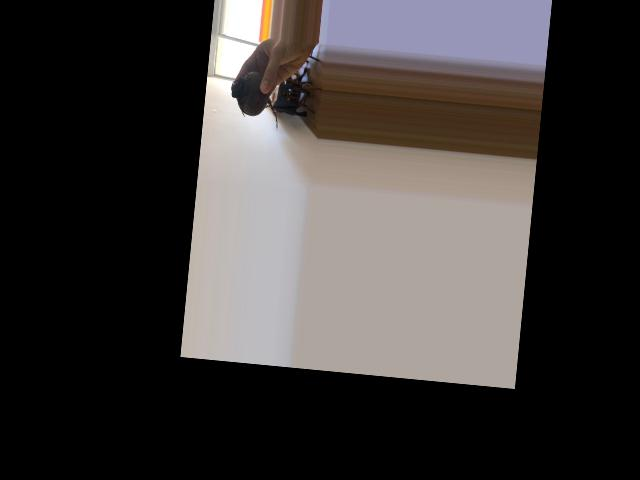beet: (227, 70, 282, 131)
